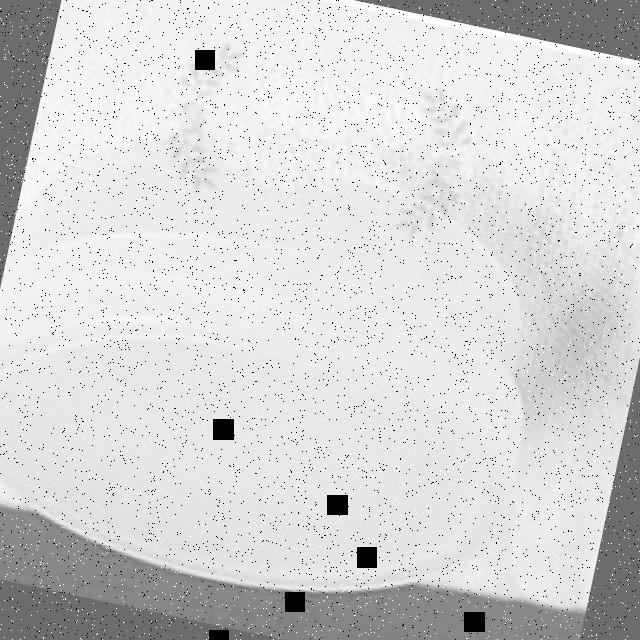plastic_box: (0, 97, 572, 638)
